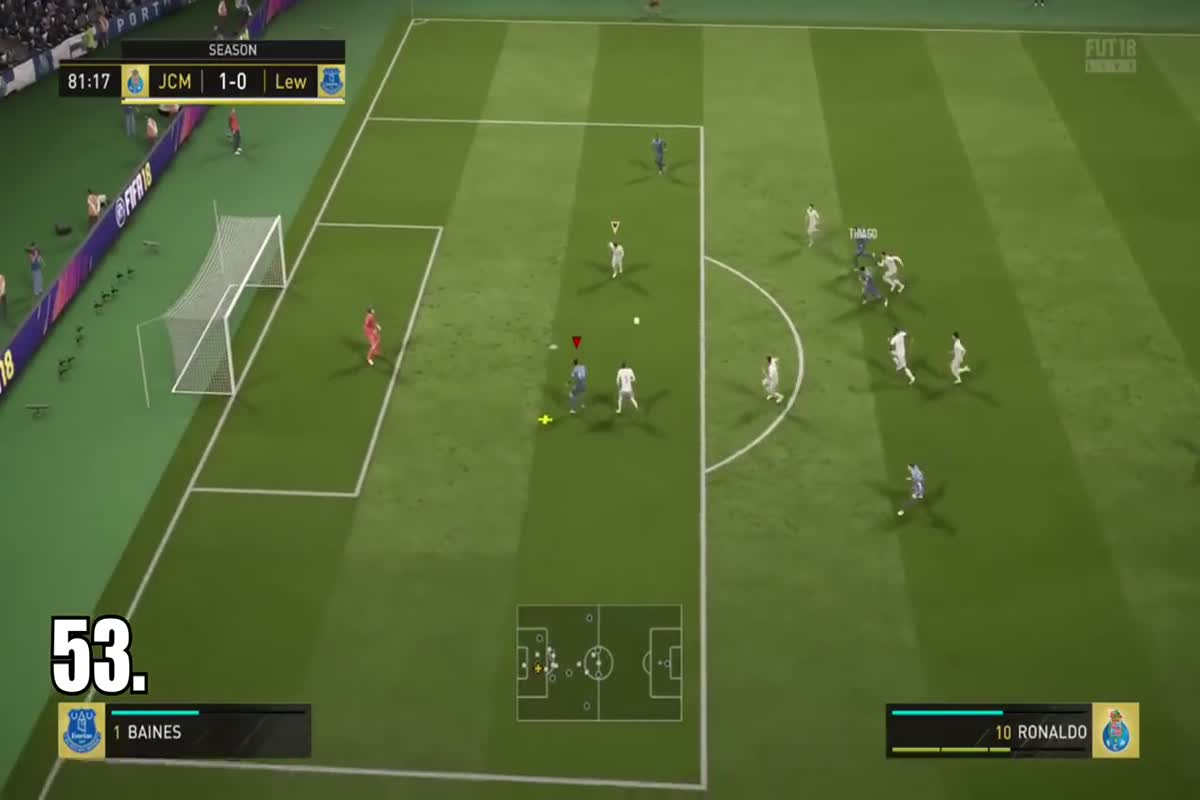ball: (625, 308, 651, 332)
